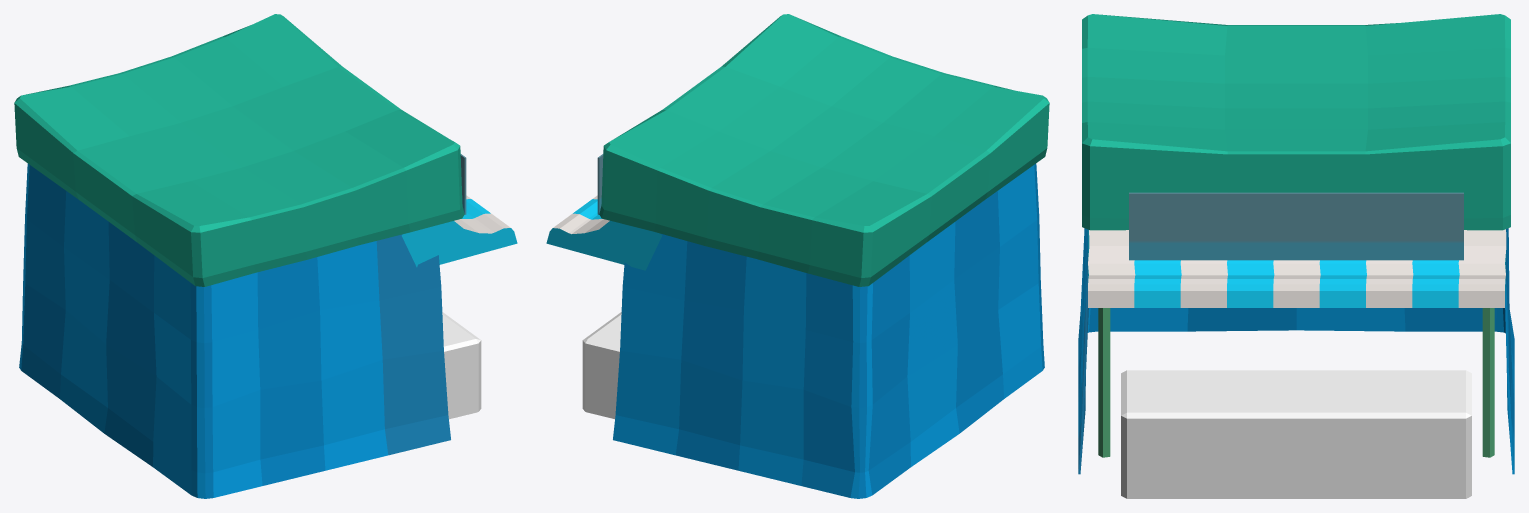
File: rowyatai3.fbx
3 renders of one model, left to right at view 1: azimuth 30°, elevation 25°; view 2: azimuth 150°, elevation 25°; view 3: azimuth 270°, elevation 25°, orthographic. The views are drawn at different scales.
Visible parts, largest first — view 1: 立方体, Cube, 立方体.001; view 2: 立方体, Cube, 立方体.001; view 3: Cube, 立方体.001, 立方体, 円柱.
Part boxes in pixels (x1,y1,x2,y2): 立方体: (19, 154, 466, 498); Cube: (14, 14, 517, 286); 立方体.001: (442, 312, 481, 419); 立方体: (597, 154, 1044, 498); Cube: (546, 14, 1049, 286); 立方体.001: (582, 312, 621, 419); Cube: (1082, 14, 1510, 307); 立方体.001: (1121, 370, 1471, 498); 立方体: (1078, 192, 1514, 474); 円柱: (1098, 308, 1494, 457).
Bounding box in the file's own units: 133 × 114 × 132.
